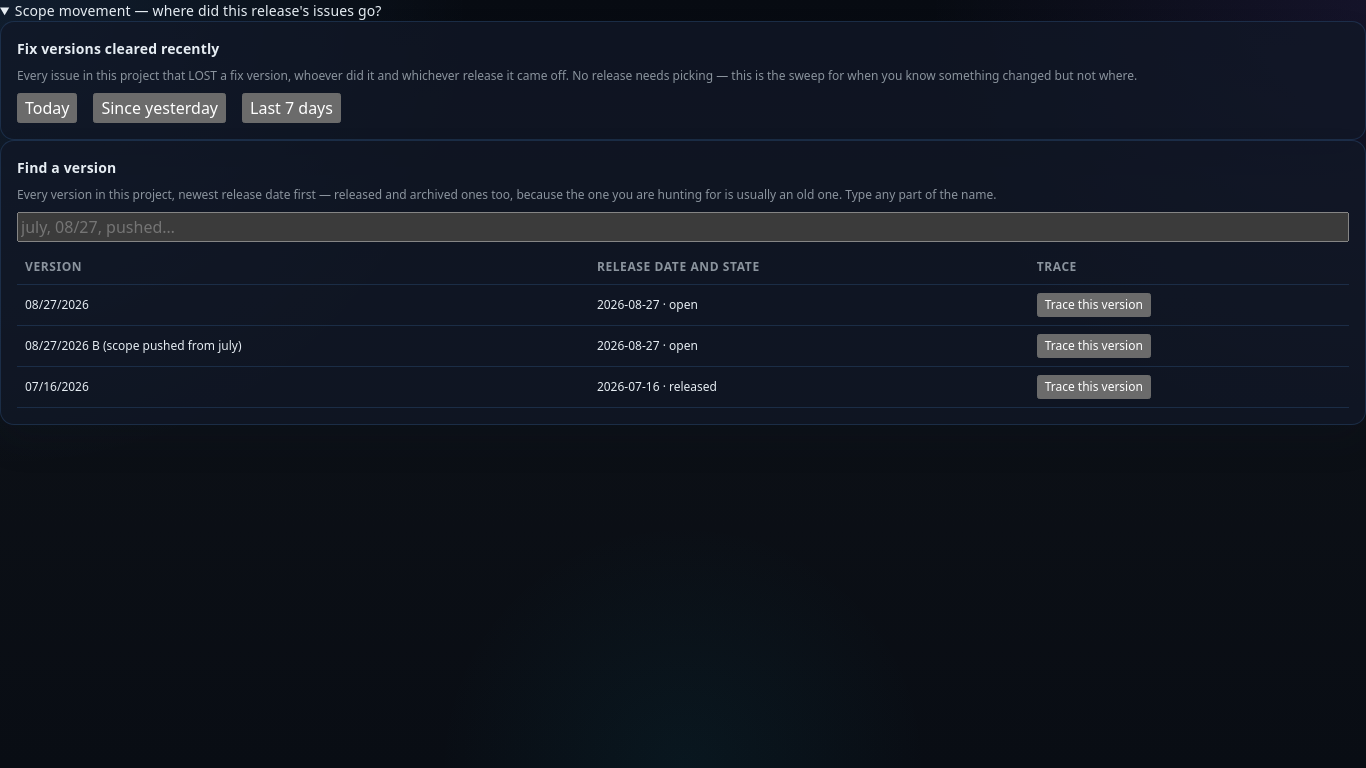
Test: VersionMovementPanel — tracing what left › reports the departure count as UNKNOWN when Jira refused the history
Click the 1st button "Trace this version": (1094, 305) [1037, 293, 1151, 317]
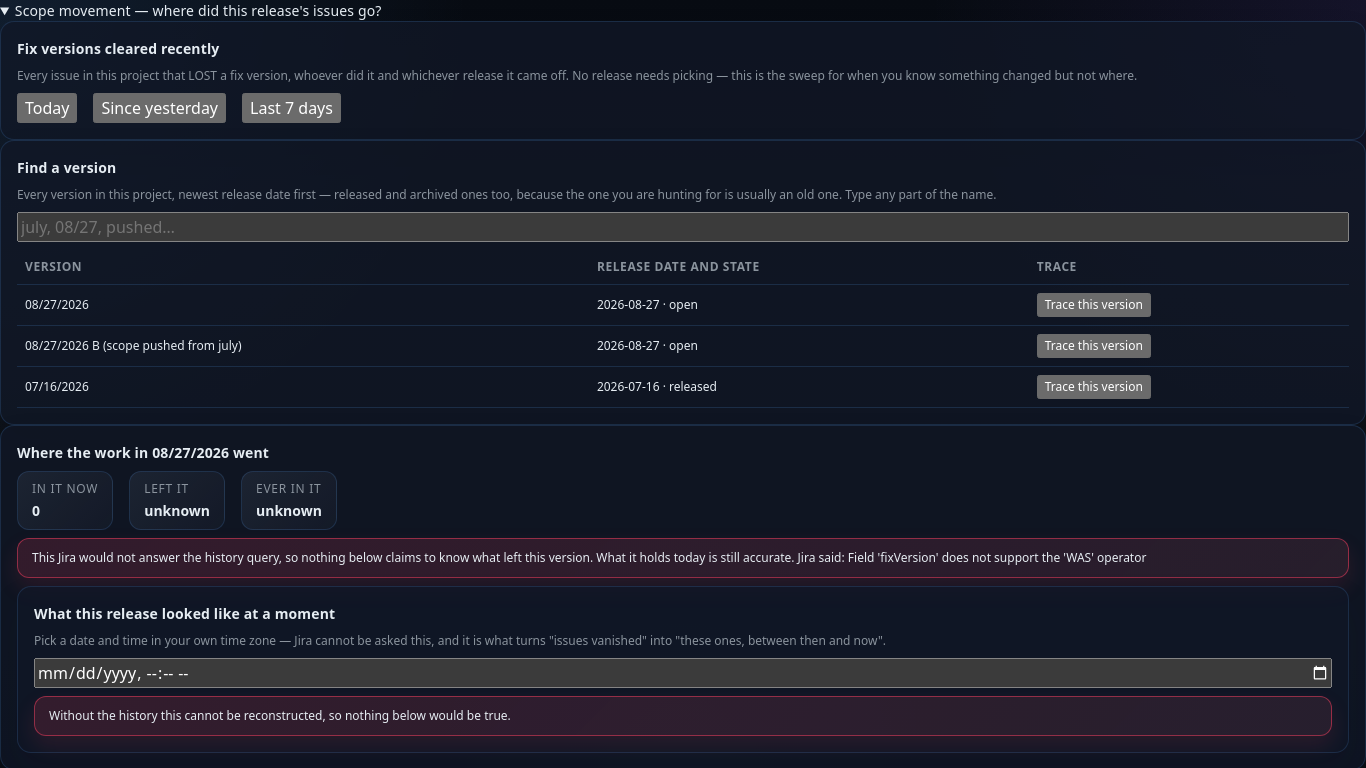
Expected: the text "would not answer the history query" is shown, [32, 549, 1146, 566]
Expected: the text "unknown" below "LEFT IT" is shown, [144, 501, 210, 520]
